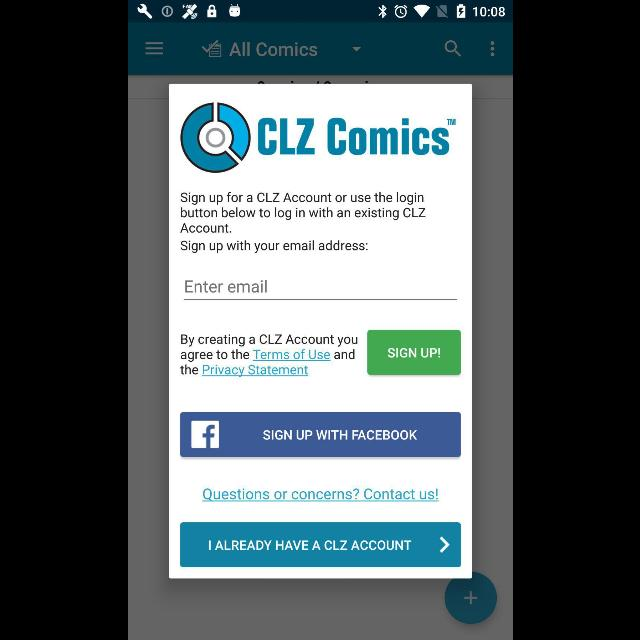button: (444, 572, 496, 624)
icon: (201, 41, 221, 58), (444, 41, 461, 58), (145, 41, 163, 54), (490, 41, 494, 57), (352, 46, 361, 52)
image: (180, 102, 250, 174)
input: (184, 280, 456, 300)
panel: (168, 84, 472, 578)
text: (180, 192, 424, 234), (257, 118, 455, 156), (179, 335, 357, 377), (202, 488, 438, 502), (180, 241, 368, 253), (229, 43, 317, 57), (184, 280, 266, 292)
textbutton: (180, 523, 460, 567), (180, 413, 460, 457), (366, 330, 459, 376)
uppertaskbar: (128, 1, 512, 23)
